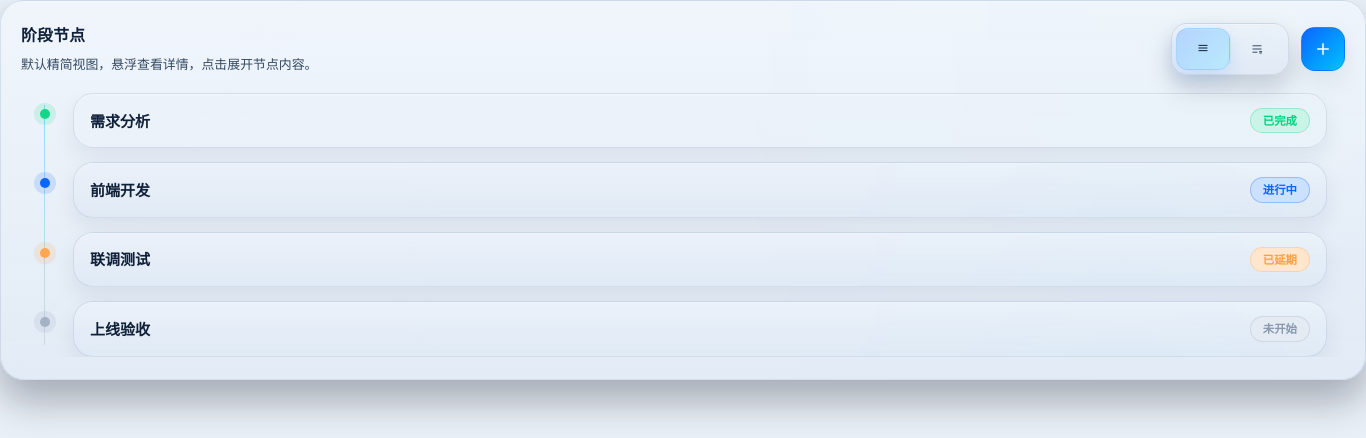
NodeRail › teleports view-mode and create-button tooltips to body so they stay above surrounding panels
The width and height of the screenshot is (1366, 438).
Hover over the button with test id "node-view-mode-compact": [1203, 49] box left=1176, top=28, right=1230, bottom=70
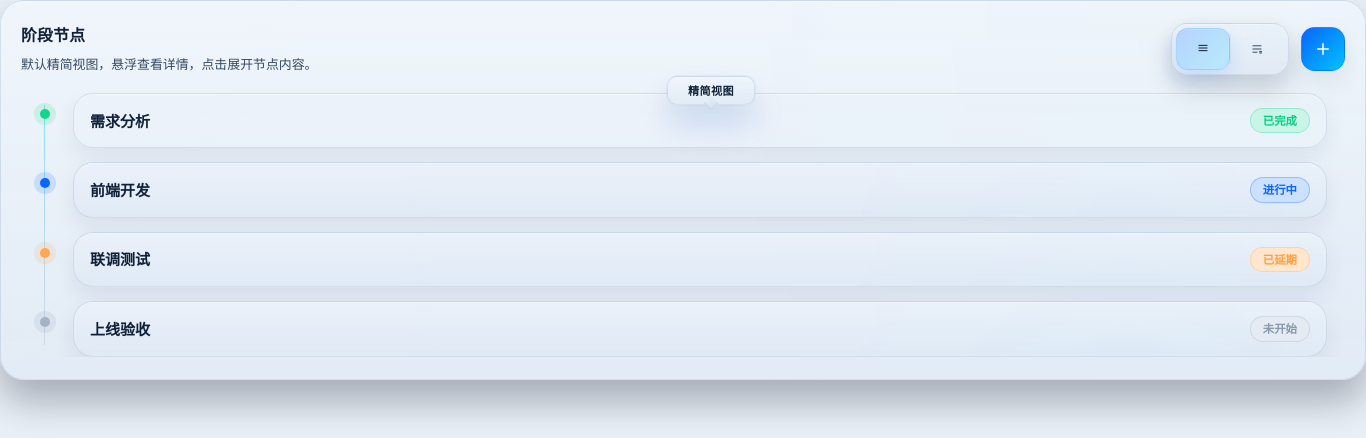
Expected: the text "精简视图" is shown, left=667, top=76, right=755, bottom=105
Expected: the text with test id "node-control-tooltip" reads "精简视图", left=688, top=82, right=734, bottom=98
Hover over the button with test id "create-node": [1323, 49] box left=1301, top=27, right=1345, bottom=71
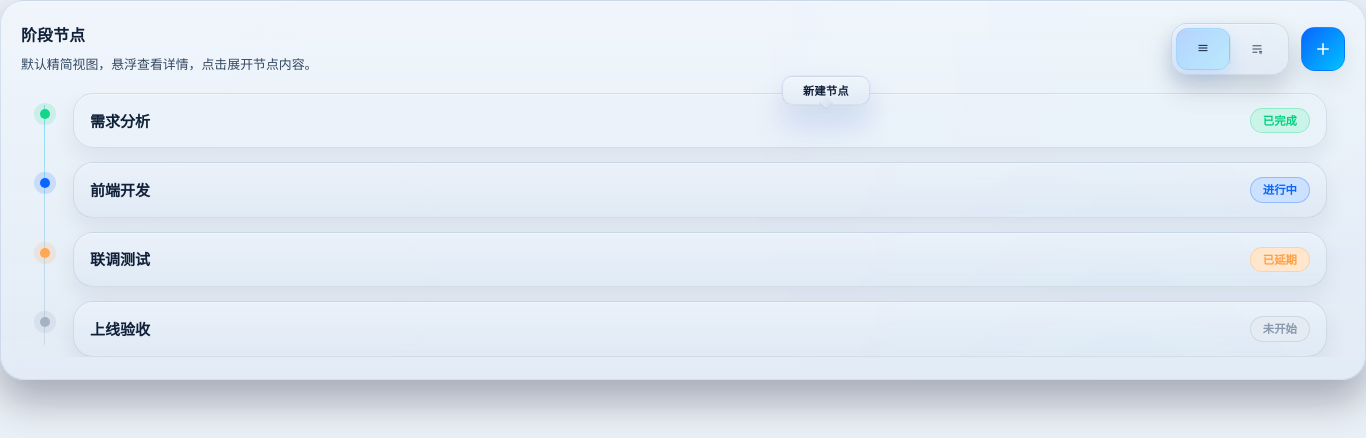
Expected: the text "新建节点" is shown, left=782, top=76, right=870, bottom=105
Expected: the text with test id "node-control-tooltip" reads "新建节点", left=803, top=82, right=849, bottom=98
